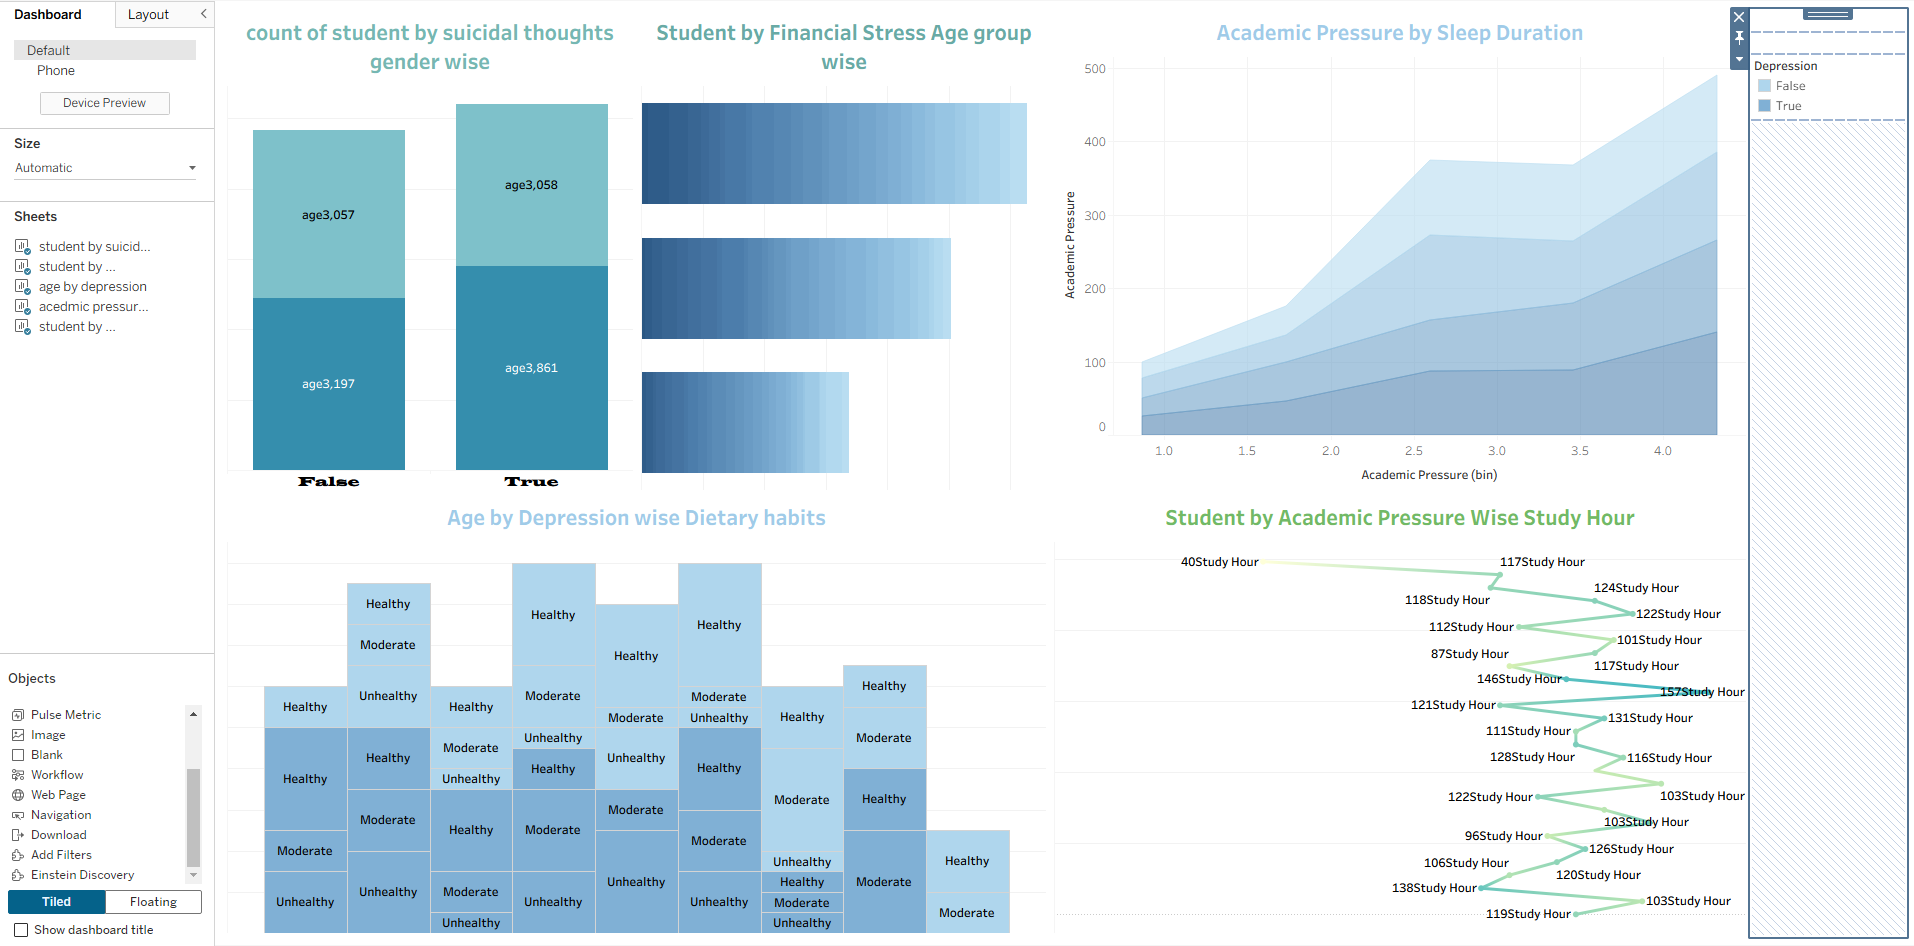

The dashboard page shown, as its layout file describes it:
{"tool":"tableau","page":{"name":"Student_Depression_Analysis","canvas":[1000,1000],"units":"permille","ordinal":0},"visuals":[{"type":"worksheet","title":"student by suicidal thoughts","mark":"Bar","rows":["Index_column"],"cols":["Have_you_ever_had_suicidal_thoughts"],"box":[4.7,8.5,243.3,513.8]},{"type":"worksheet","title":"student by financial stress","mark":"Automatic","rows":["Age_Group"],"cols":["Financial_Stress"],"box":[248,8.5,243.3,513.8]},{"type":"worksheet","title":"acedmic pressure by sleep duration","mark":"Area","rows":["Academic_Pressure"],"cols":["Academic Pressure (bin)"],"box":[491.3,8.5,411.6,513.8]},{"type":"legend","title":"student by suicidal thoughts","param":"[federated.00mcdja1831qk419nc62b09ihwin].[cnt:Gender:qk]","box":[902.9,8.5,92.4,23.3]},{"type":"legend","title":"student by Academic pressure","param":"[federated.00mcdja1831qk419nc62b09ihwin].[none:Gender:nk]","box":[902.9,31.8,92.4,23.3]},{"type":"legend","title":"age by depression","param":"[federated.00mcdja1831qk419nc62b09ihwin].[none:Depression:nk]","box":[902.9,55.1,92.4,69.9]},{"type":"worksheet","title":"age by depression","mark":"Automatic","rows":["Age"],"cols":["Age (bin)"],"box":[4.7,522.2,486.6,469.3]},{"type":"worksheet","title":"student by Academic pressure","mark":"Line","rows":["Index column (bin)"],"cols":["Academic_Pressure"],"box":[491.3,522.2,411.6,469.3]}]}

Visuals, with their boxes on the dashboard's canvas, which has no fixed pixel size, in thousandths of its width and height (x1, y1, x2, y2). These are canvas units, not pixel positions in the 1914x946 screenshot, which may show the page scaled, cropped or inside an application window:
"student by suicidal thoughts" worksheet (Bar marks): (x1=5, y1=8, x2=248, y2=522)
"student by financial stress" worksheet: (x1=248, y1=8, x2=491, y2=522)
"acedmic pressure by sleep duration" worksheet (Area marks): (x1=491, y1=8, x2=903, y2=522)
"student by suicidal thoughts" legend: (x1=903, y1=8, x2=995, y2=32)
"student by Academic pressure" legend: (x1=903, y1=32, x2=995, y2=55)
"age by depression" legend: (x1=903, y1=55, x2=995, y2=125)
"age by depression" worksheet: (x1=5, y1=522, x2=491, y2=992)
"student by Academic pressure" worksheet (Line marks): (x1=491, y1=522, x2=903, y2=992)
